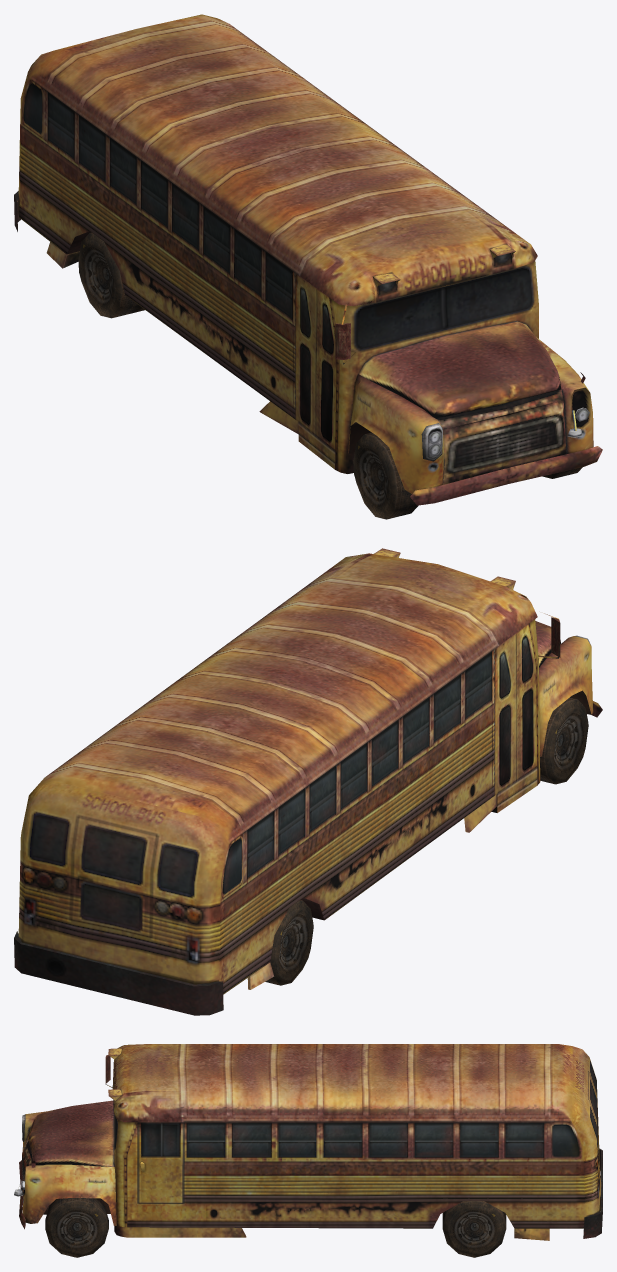
The model's file is Old_SchoolBus.fbx.
3 renders of one model, top to bottom at view 1: azimuth 30°, elevation 25°; view 2: azimuth 150°, elevation 25°; view 3: azimuth 270°, elevation 25°, orthographic. The views are drawn at different scales.
Parts seen in each view (by area): view 1: OldSchoolBus, OldSchoolBus_Wheel_Front_R, OldSchoolBus_Wheel_Rear_R; view 2: OldSchoolBus, OldSchoolBus_Wheel_Front_R, OldSchoolBus_Wheel_Rear_R; view 3: OldSchoolBus, OldSchoolBus_Wheel_Front_L, OldSchoolBus_Wheel_Rear_L.
Boxes of the visible parts, x1,y1,x2,y2 form: OldSchoolBus: (14,14,602,505); OldSchoolBus_Wheel_Front_R: (353,432,418,519); OldSchoolBus_Wheel_Rear_R: (78,232,144,318); OldSchoolBus: (14,548,602,1015); OldSchoolBus_Wheel_Front_R: (540,697,588,784); OldSchoolBus_Wheel_Rear_R: (265,900,313,985); OldSchoolBus: (14,1044,602,1240); OldSchoolBus_Wheel_Front_L: (45,1198,108,1257); OldSchoolBus_Wheel_Rear_L: (442,1201,506,1257).
Bounding box in the file's own units: 3.74 × 3.63 × 12.
